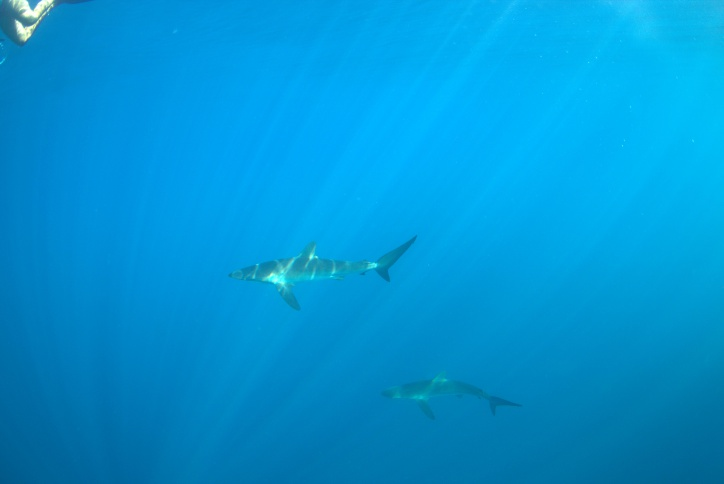Sedoso: (220, 223, 444, 323)
